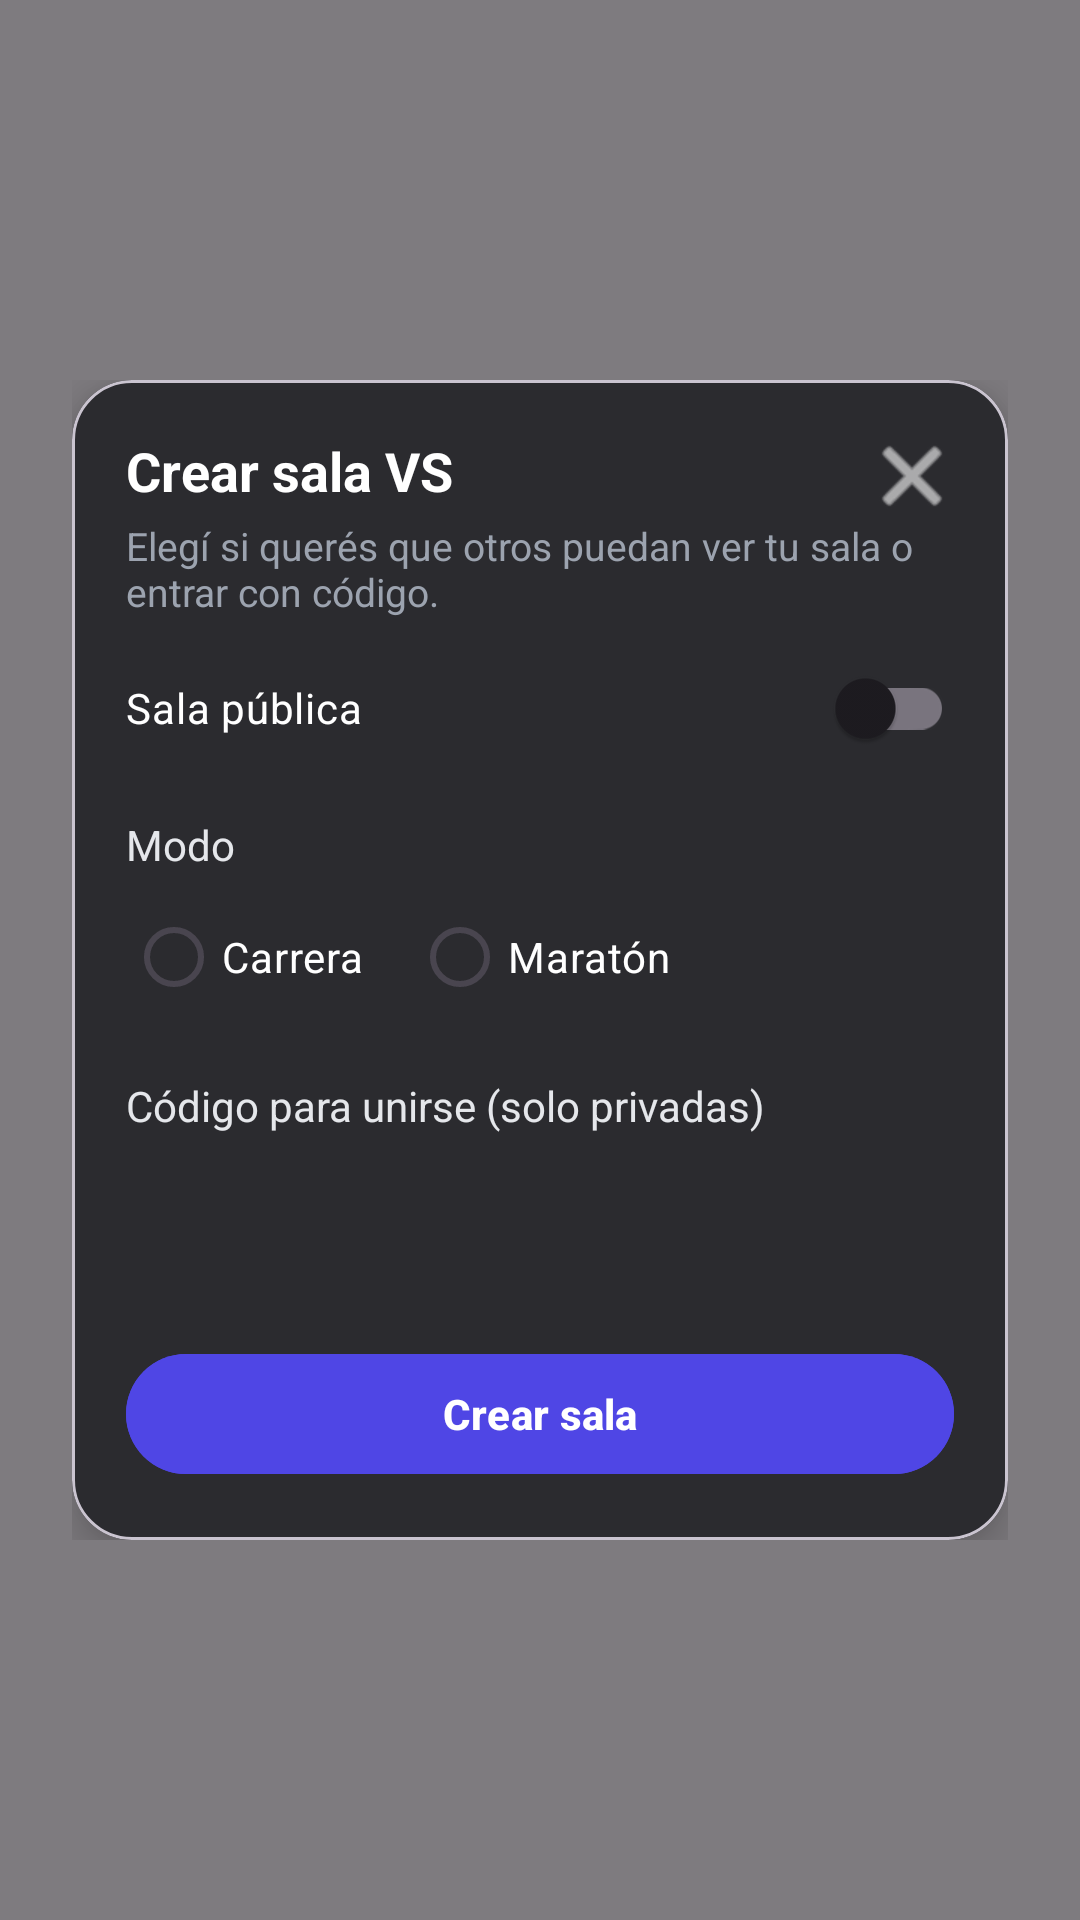

Icons on this 1080 x 1920 Android screen, each with the point to tap as (x,y):
close clear cancel: (912,476)
